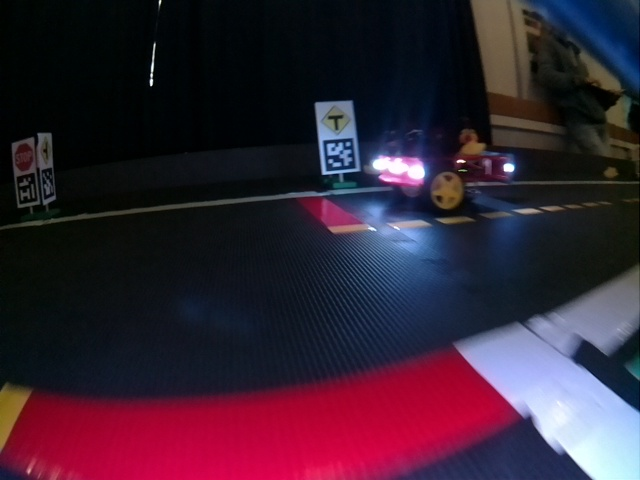Duckiebot: (375, 130, 513, 209)
Intersection sign: (318, 102, 355, 135), (39, 133, 53, 162)
QR code: (319, 139, 358, 172), (14, 173, 39, 206), (41, 167, 56, 203)
Stop sign: (12, 139, 35, 171)
